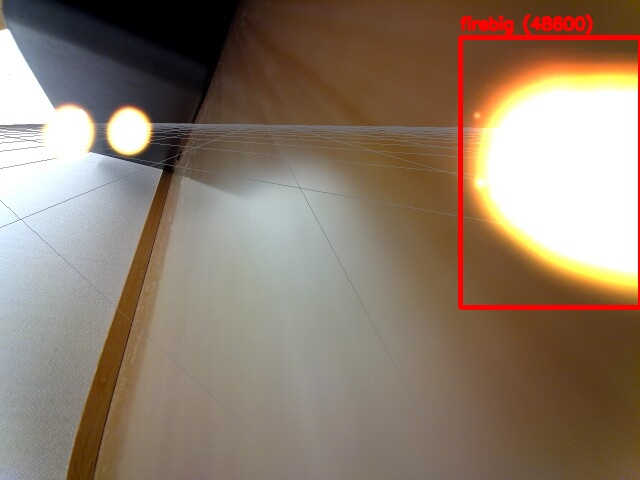firebig: (460, 37, 640, 307)
